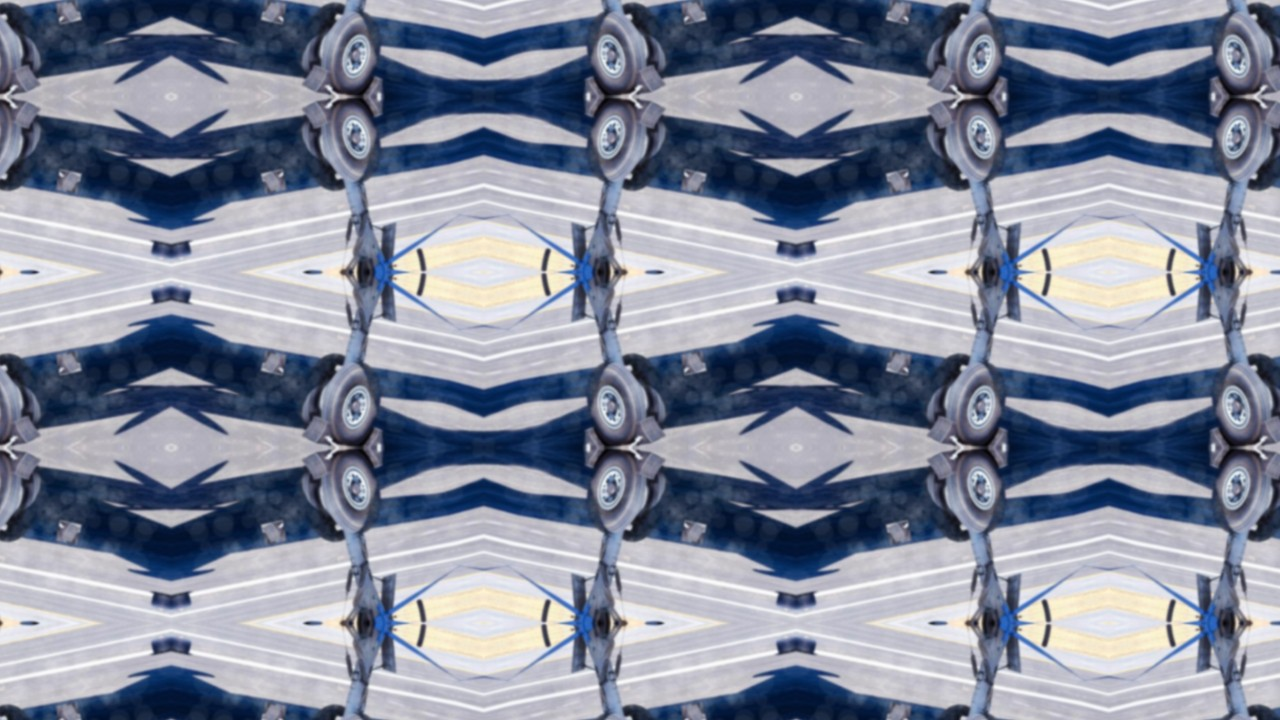chock: (4, 60, 41, 96), (300, 60, 337, 96), (630, 60, 667, 96), (926, 60, 963, 96), (4, 96, 41, 132), (300, 96, 337, 132), (630, 96, 667, 132), (926, 96, 963, 132), (4, 412, 41, 448), (300, 412, 337, 448), (630, 412, 667, 448), (926, 412, 963, 448), (4, 448, 41, 484), (300, 448, 337, 484), (630, 448, 667, 484), (926, 448, 963, 484), (1256, 60, 1280, 96), (1256, 96, 1280, 132), (1256, 412, 1280, 448), (1256, 448, 1280, 484), (355, 72, 390, 96), (577, 72, 612, 96), (981, 72, 1016, 96), (1203, 72, 1238, 96), (355, 96, 390, 120), (577, 96, 612, 120), (981, 96, 1016, 120), (1203, 96, 1238, 120), (355, 424, 390, 448), (577, 424, 612, 448), (981, 424, 1016, 448), (1203, 424, 1238, 448), (355, 448, 390, 472), (577, 448, 612, 472), (981, 448, 1016, 472), (1203, 448, 1238, 472), (55, 168, 81, 193), (260, 168, 286, 193), (681, 168, 707, 193), (886, 168, 912, 193), (55, 351, 81, 376), (260, 351, 286, 376), (681, 351, 707, 376), (886, 351, 912, 376), (55, 520, 81, 545), (260, 520, 286, 545), (681, 520, 707, 545), (886, 520, 912, 545), (55, 0, 81, 24), (260, 0, 286, 24), (681, 0, 707, 24), (886, 0, 912, 24), (55, 703, 81, 720), (260, 703, 286, 720), (681, 703, 707, 720), (886, 703, 912, 720)
wheel: (316, 6, 387, 96), (580, 6, 651, 96), (942, 6, 1013, 96), (1206, 6, 1277, 96), (316, 96, 387, 186), (580, 96, 651, 186), (942, 96, 1013, 186), (1206, 96, 1277, 186), (316, 358, 387, 448), (580, 358, 651, 448), (942, 358, 1013, 448), (1206, 358, 1277, 448), (316, 448, 387, 538), (580, 448, 651, 538), (942, 448, 1013, 538), (1206, 448, 1277, 538), (293, 111, 345, 197), (622, 111, 674, 197), (919, 111, 971, 197), (293, 347, 345, 433), (622, 347, 674, 433), (919, 347, 971, 433), (293, 463, 345, 549), (622, 463, 674, 549), (919, 463, 971, 549), (293, 0, 345, 81), (622, 0, 674, 81), (919, 0, 971, 81), (0, 111, 48, 197), (0, 347, 48, 433), (0, 463, 48, 549), (0, 0, 48, 81), (1248, 111, 1280, 197), (1248, 347, 1280, 433), (1248, 463, 1280, 549), (1248, 0, 1280, 81), (0, 6, 25, 96), (0, 96, 25, 186), (0, 358, 25, 448), (0, 448, 25, 538), (293, 699, 345, 720), (622, 699, 674, 720), (919, 699, 971, 720), (0, 699, 48, 720), (316, 710, 387, 720), (580, 710, 651, 720), (942, 710, 1013, 720), (1206, 710, 1277, 720), (1248, 699, 1280, 720), (149, 240, 164, 258), (177, 240, 192, 258), (775, 240, 790, 258), (803, 240, 818, 258), (149, 286, 164, 304), (177, 286, 192, 304), (775, 286, 790, 304), (803, 286, 818, 304), (149, 592, 164, 610), (177, 592, 192, 610), (775, 592, 790, 610), (803, 592, 818, 610), (149, 638, 164, 656), (177, 638, 192, 656), (775, 638, 790, 656), (803, 638, 818, 656), (170, 242, 181, 261), (786, 242, 797, 261), (170, 283, 181, 302), (786, 283, 797, 302), (170, 594, 181, 613), (786, 594, 797, 613), (170, 635, 181, 654), (786, 635, 797, 654), (160, 242, 170, 261), (797, 242, 807, 261), (160, 283, 170, 302), (797, 283, 807, 302), (160, 594, 170, 613), (797, 594, 807, 613), (160, 635, 170, 654), (797, 635, 807, 654)
